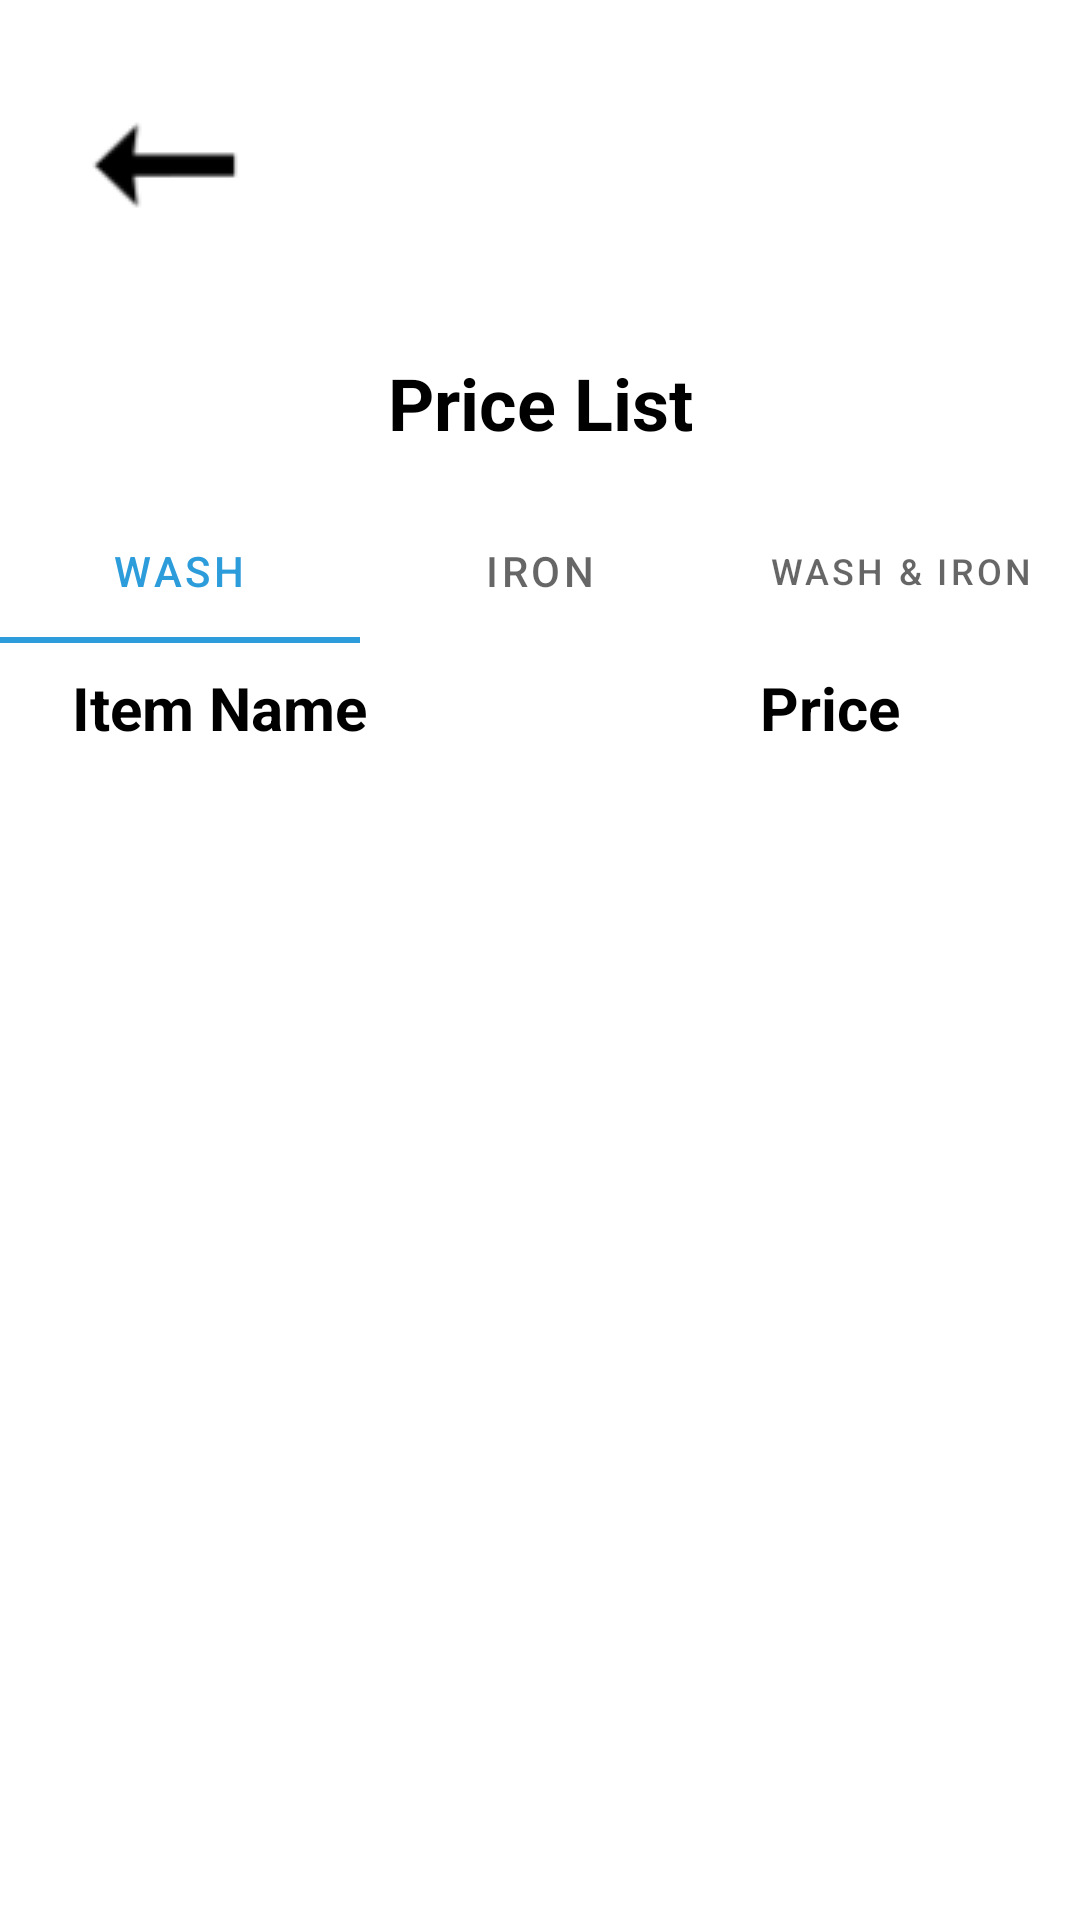

Icon bounding boxes for this 1080w x 1920h phone screenshot, format detection(x1, y1, x2, y2):
back: detection(94, 123, 237, 207)
